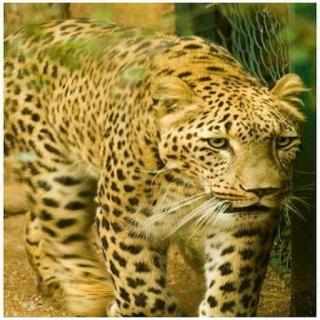Leopard: (9, 13, 312, 318)
